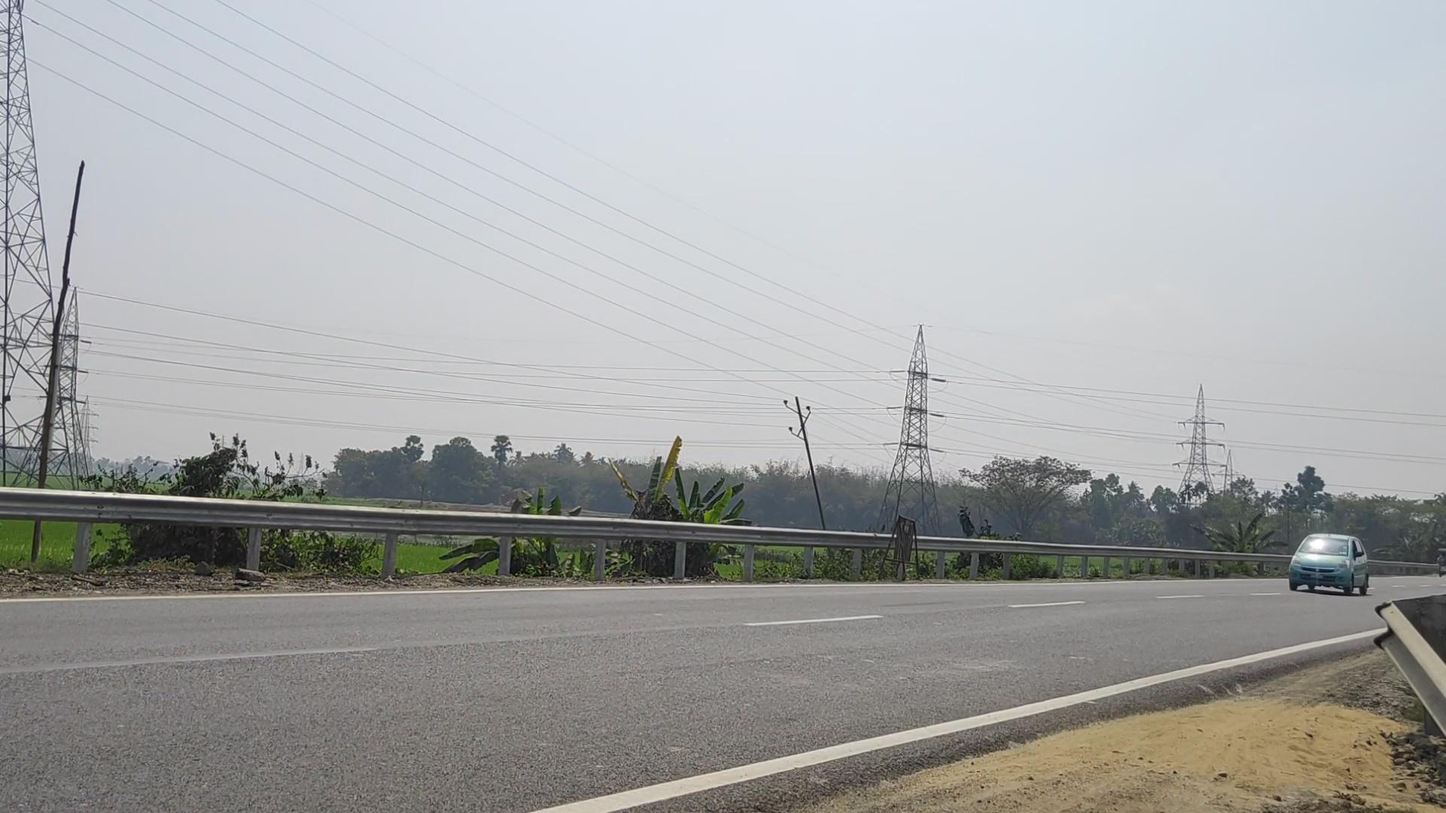car: (1289, 533, 1369, 595)
